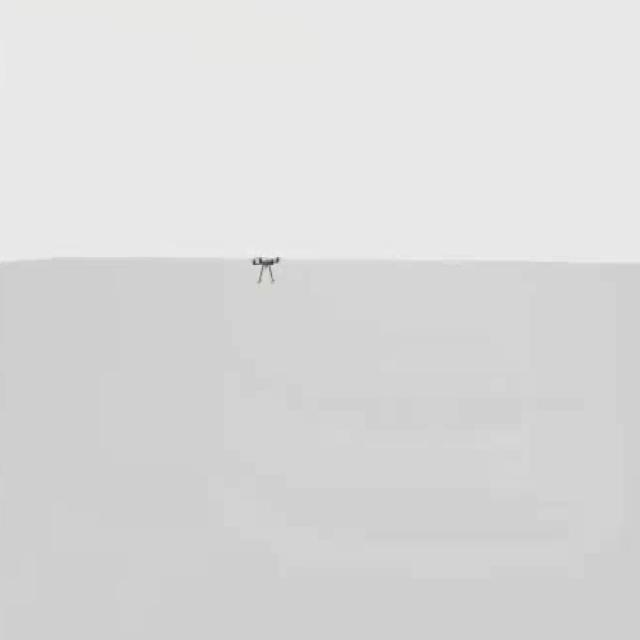drone: (254, 242, 281, 289)
